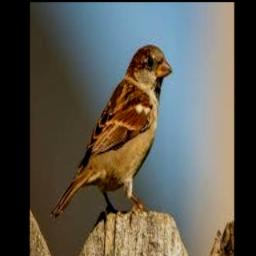Sparrow: (51, 45, 173, 217)
